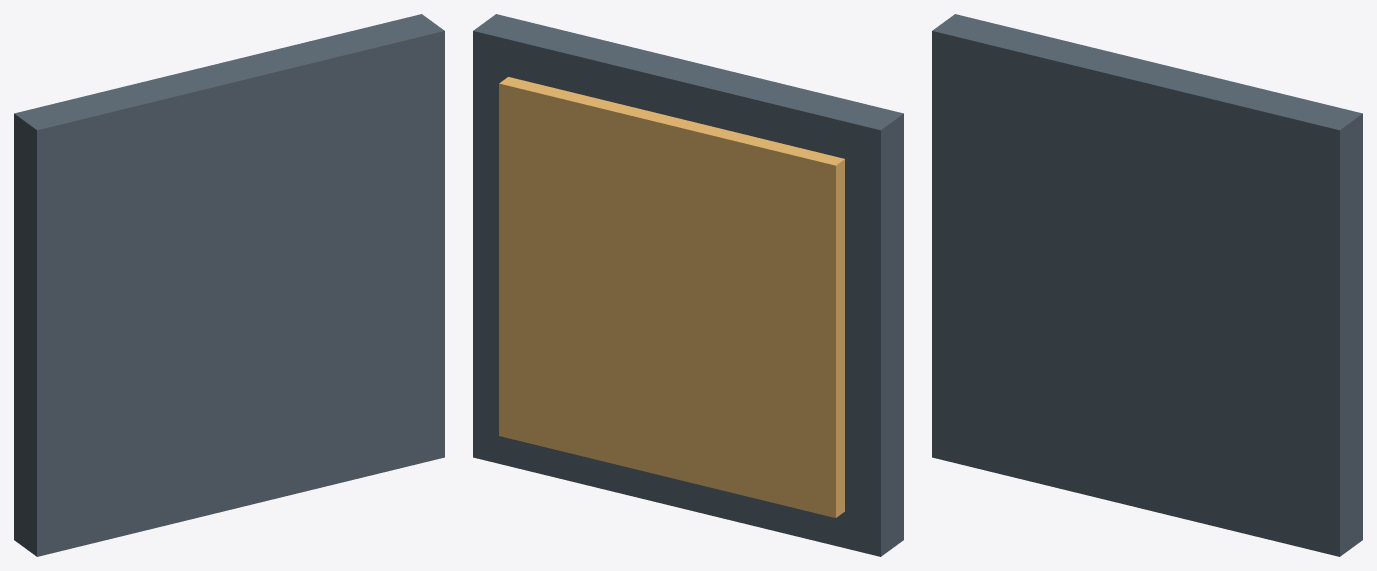
The picture shows the model from 3 angles, left to right: view 1: azimuth 30°, elevation 25°; view 2: azimuth 150°, elevation 25°; view 3: azimuth 330°, elevation 25°; orthographic projection.
Parts seen in each view (by area): view 1: cpu heat spreader; view 2: cpu contact marker, cpu heat spreader; view 3: cpu heat spreader.
Boxes of the visible parts, x1=… form: cpu heat spreader: x1=14, y1=14, x2=444, y2=556; cpu contact marker: x1=499, y1=77, x2=844, y2=517; cpu heat spreader: x1=473, y1=14, x2=903, y2=556; cpu heat spreader: x1=932, y1=14, x2=1362, y2=556.
Size of the model in its own units: 0.46 by 0.46 by 0.0635.
